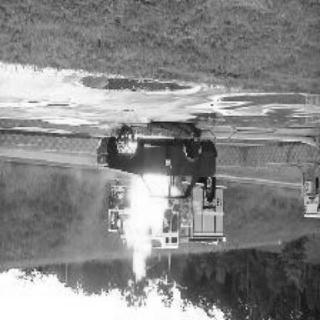Fire: (120, 176, 182, 282), (114, 132, 176, 156)
